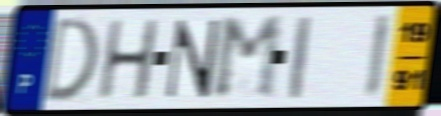D: (41, 14, 101, 107)
H: (94, 17, 161, 102)
I: (362, 11, 394, 102), (288, 13, 313, 102)
M: (212, 13, 285, 103)
N: (162, 17, 224, 101)
